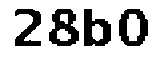0: (114, 7, 151, 51)
2: (7, 5, 45, 52)
8: (49, 5, 81, 49)
b: (82, 3, 112, 52)
